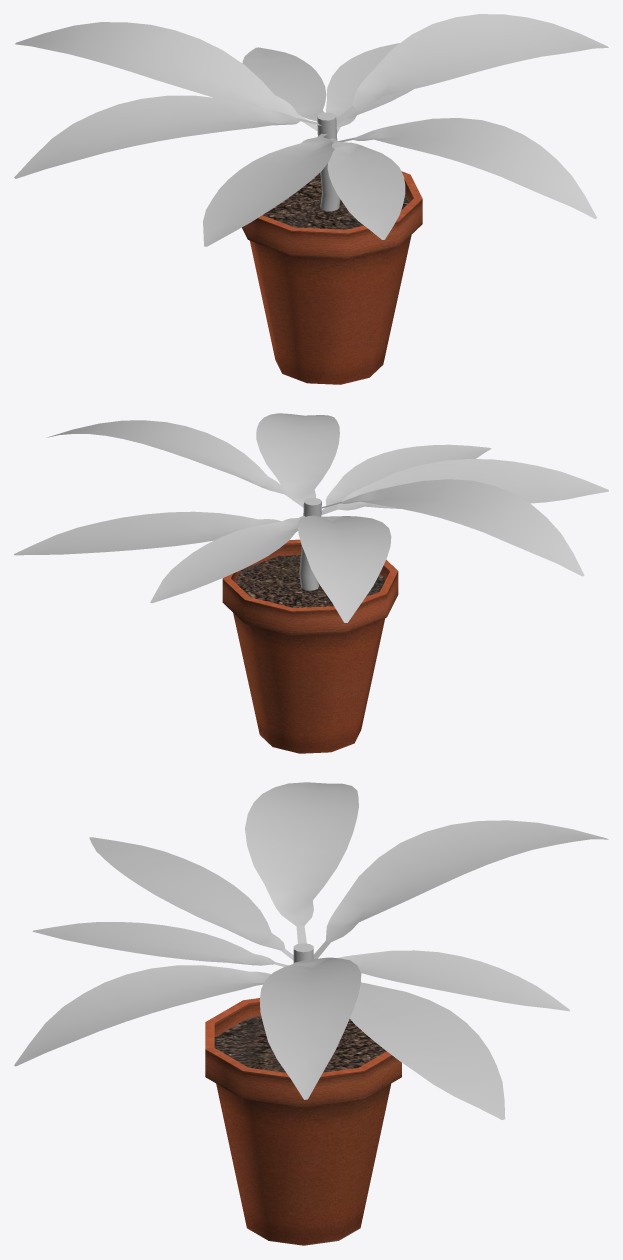
File: Plant.FBX
The picture shows the model from 3 angles, top to bottom: view 1: azimuth 30°, elevation 25°; view 2: azimuth 150°, elevation 25°; view 3: azimuth 270°, elevation 25°; orthographic projection. The views are drawn at different scales.
Parts seen in each view (by area): view 1: PlantPot; view 2: PlantPot; view 3: PlantPot.
Boxes of the visible parts, x1,y1,x2,y2 form: PlantPot: (14, 14, 608, 384); PlantPot: (14, 413, 608, 753); PlantPot: (14, 782, 608, 1245).
Bounding box in the file's own units: 0.8684 × 0.4122 × 0.6977.
